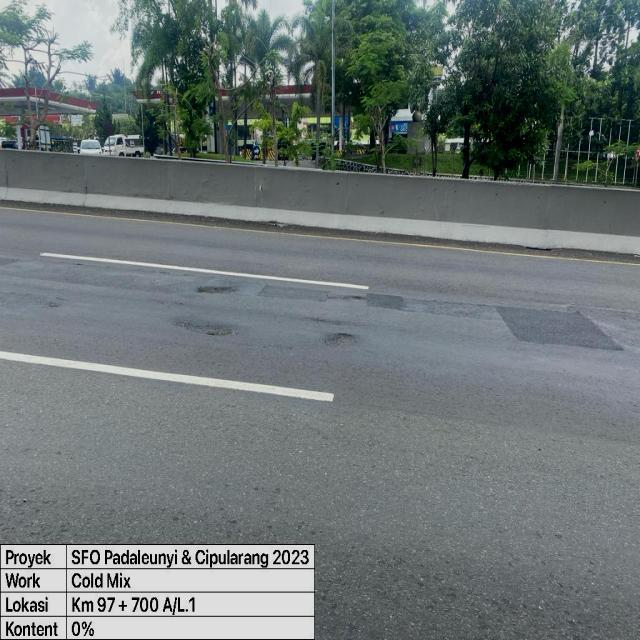Buraco: (168, 319, 242, 338), (322, 331, 357, 347), (194, 284, 240, 296)
